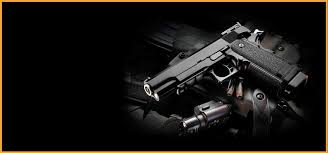gun: (141, 23, 312, 104)
